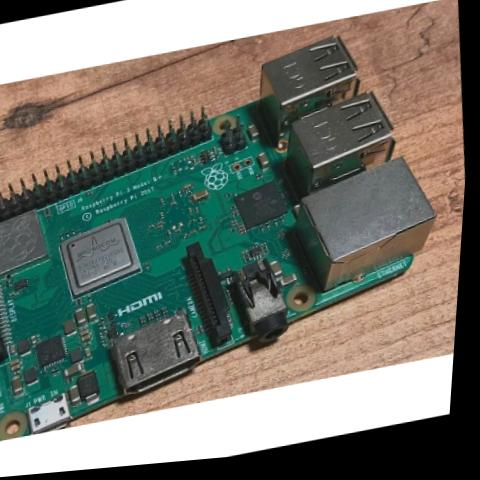Raspberry-Pi-3-Model-B-: (0, 13, 473, 444)
